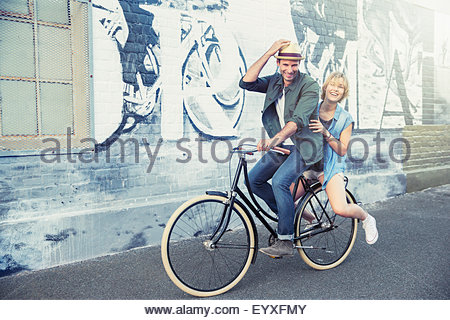bikerider: (152, 28, 394, 293)
